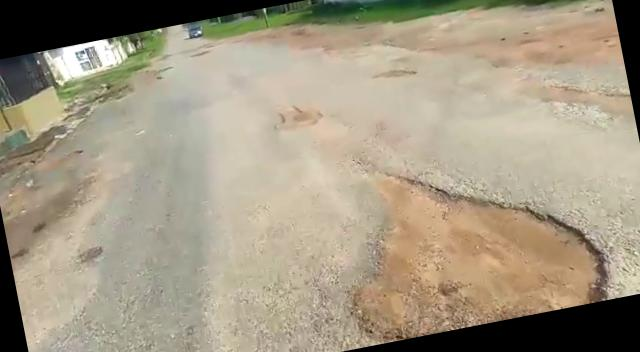pothole: (327, 130, 615, 348), (269, 100, 326, 135), (371, 64, 416, 86)
